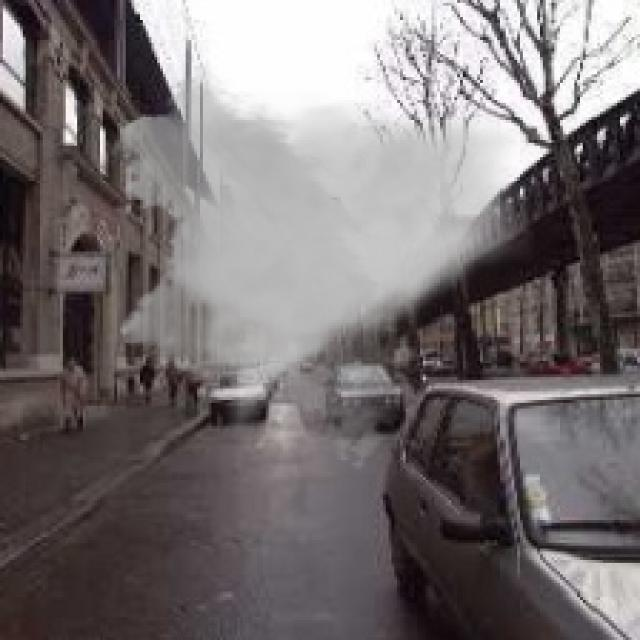Smoke: (108, 62, 534, 472)
